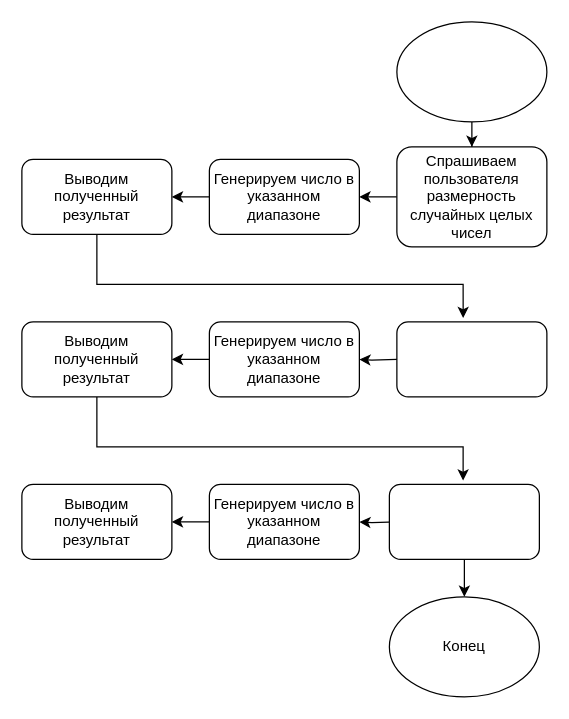
The diagram is 569 pixels wide and 719 high, and some of its shapes have lost their labels. The shapes that lost their labels are listed below. From the top down, each one's centre as x and y in pixels, then its label:
(x=471, y=71): Начало
(x=471, y=359): Спрашиваем пользователя размерность вещественных чисел
(x=463, y=521): Спрашиваем пользователя размерность символов
